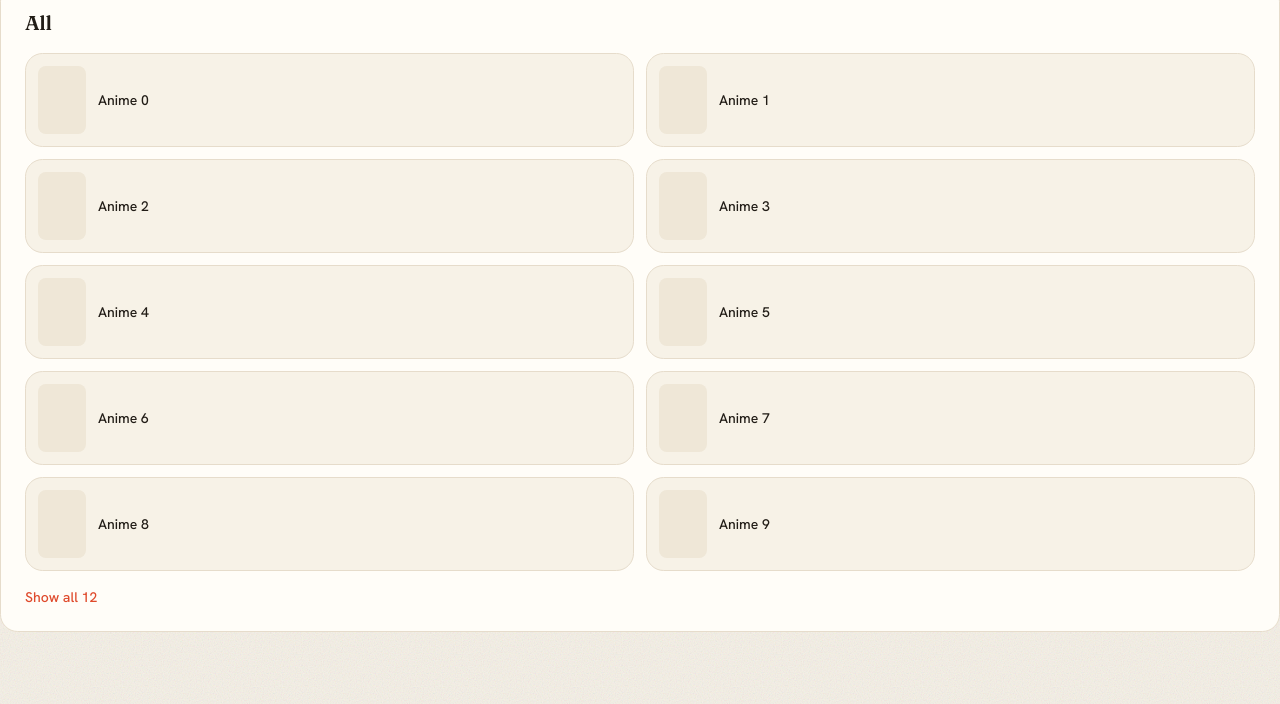
ProfileAnimeSection › collapses to 10 entries with a 'Show all' toggle when collapsible
Check: the text "Anime 11" is not shown
Click the button "Show all 12": (61, 597) [25,587,97,607]
(page scrolled)
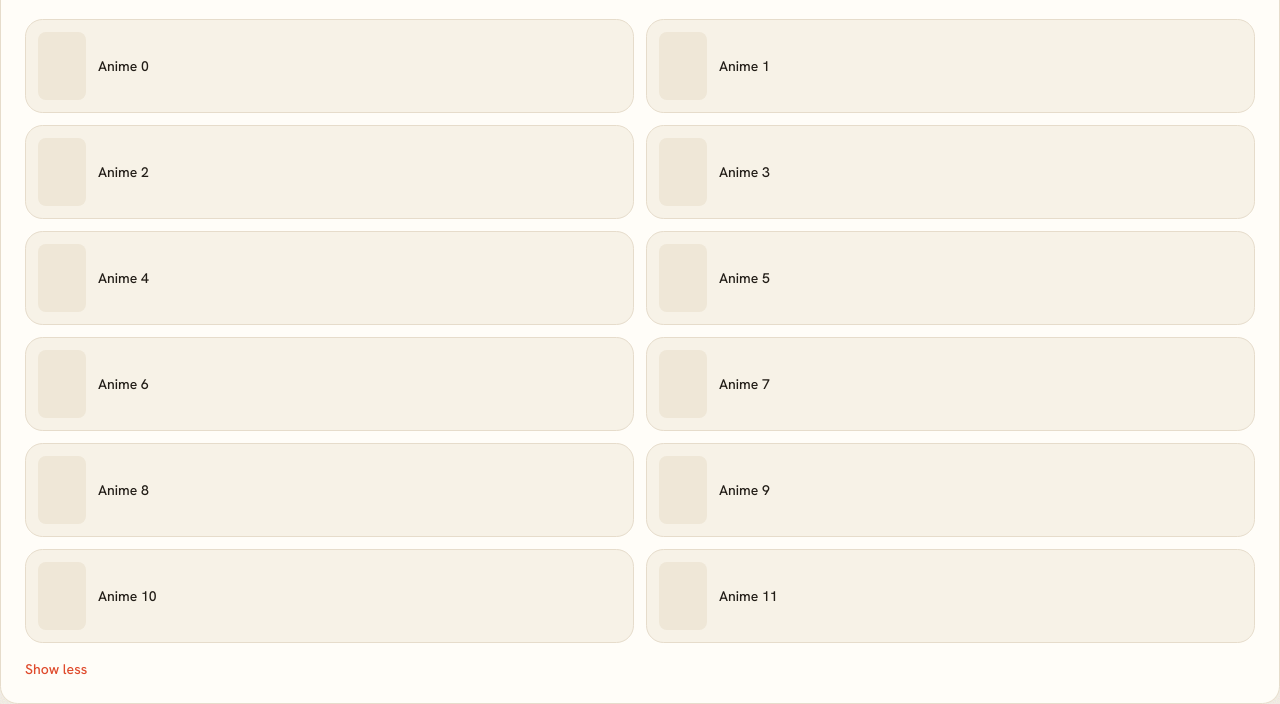
Check: the text "Anime 11" is shown, box [719,587,778,605]
Click the button "Show less": (56, 669) [25,659,87,679]
(page scrolled)
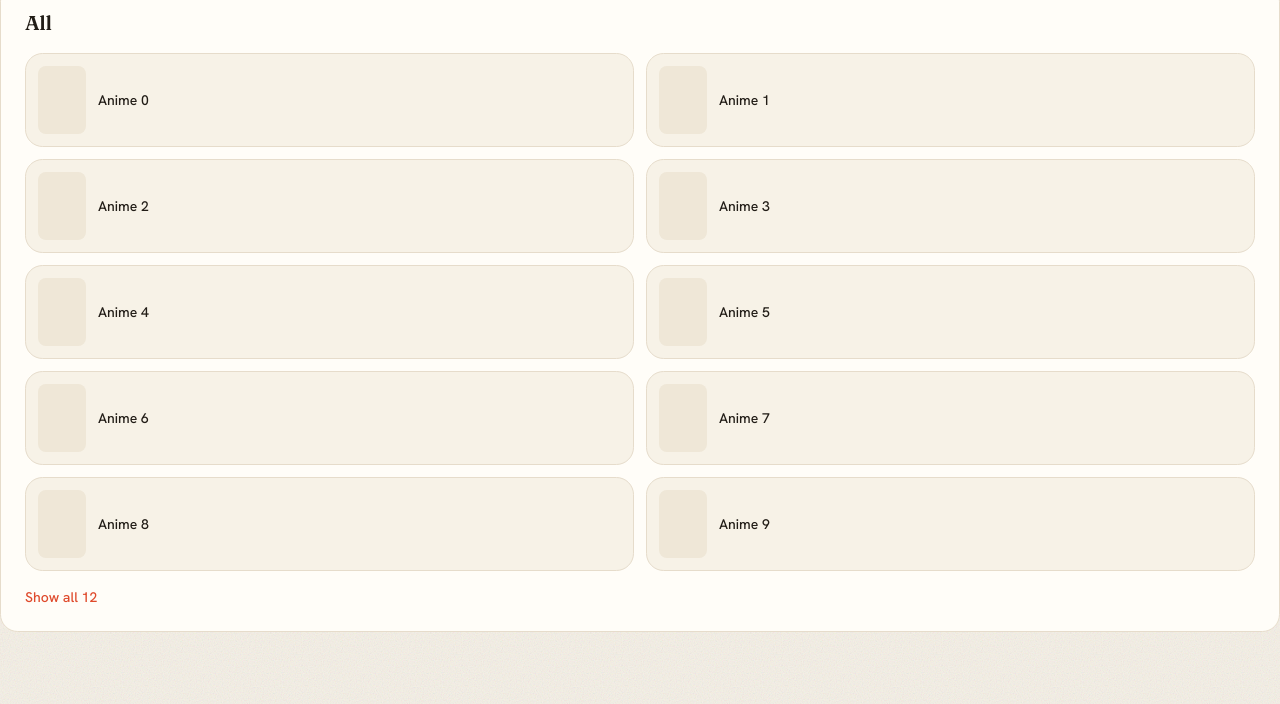
Check: the link "Anime 11" is gone
